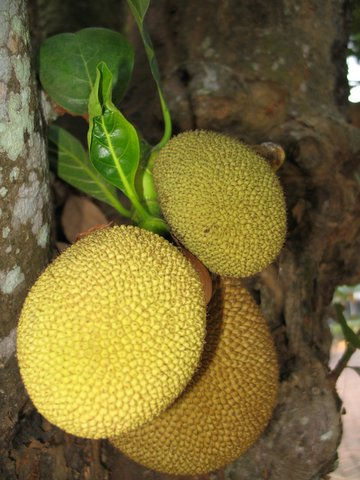jackfruit: (15, 223, 207, 440), (109, 242, 283, 478), (150, 127, 289, 279)
